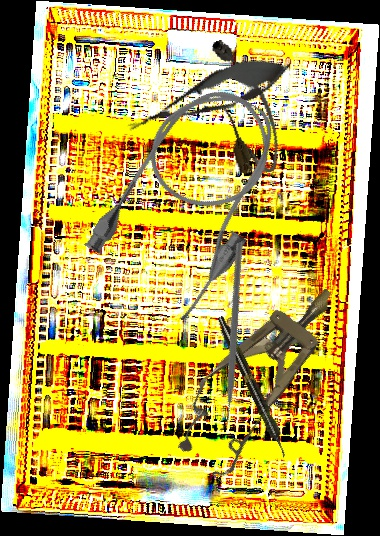Cannula: (76, 67, 309, 328), (202, 32, 288, 180)
Chopper: (139, 241, 316, 434)
Handpiece: (214, 314, 291, 460)
Micro Scissor: (119, 43, 299, 149)
Speculum: (159, 264, 362, 486)
